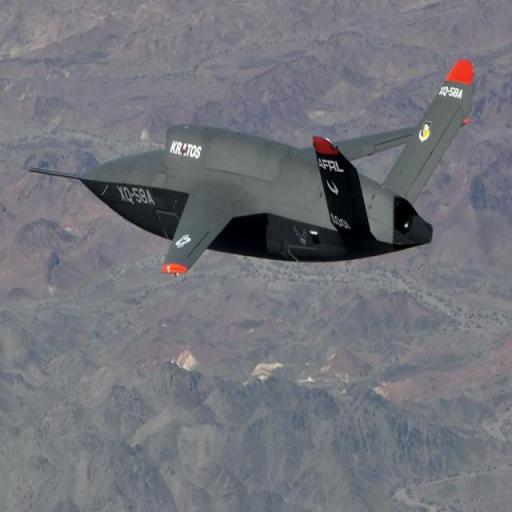uav: (70, 59, 477, 281)
